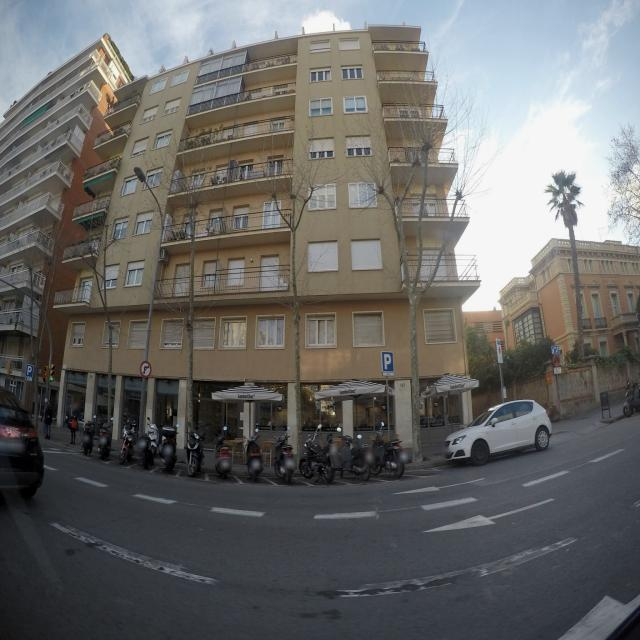bike: (300, 426, 338, 486), (370, 422, 406, 479), (340, 428, 373, 483), (242, 430, 267, 485), (212, 426, 234, 482), (275, 437, 298, 485), (117, 420, 140, 464), (160, 422, 178, 475), (185, 429, 204, 476), (96, 417, 115, 462), (142, 417, 160, 458), (80, 415, 97, 458)
car: (443, 399, 552, 466), (0, 380, 45, 506)
